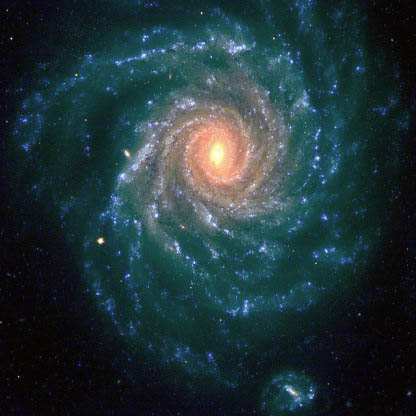NGC 1232: (18, 11, 387, 412)
